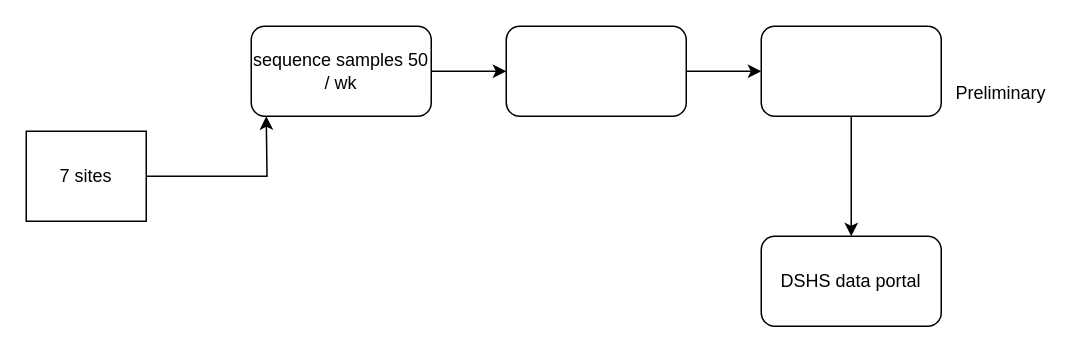
This 1073x353 diagram has some shape labels left out. Here are the shapes that lost their labels. From the top down, the centre of each, then its label:
(x=595, y=70): lineage is determined
(x=850, y=70): the harmonized CSV Variant Template
